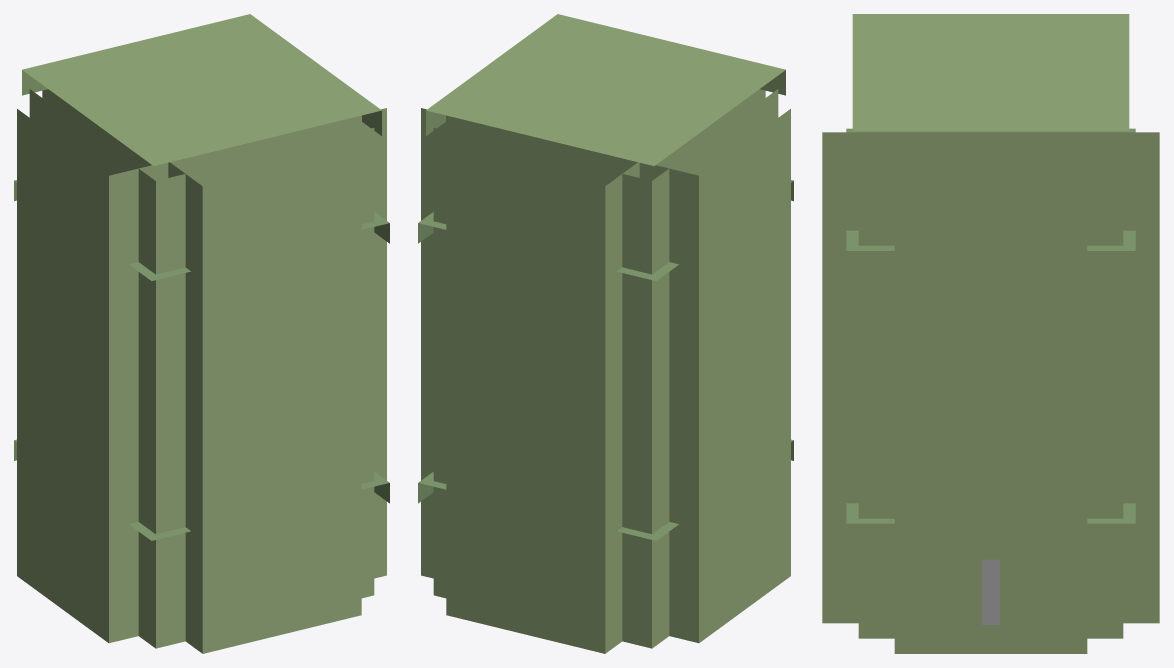
Rendered from rain_barrel.glb.
The picture shows the model from 3 angles, left to right: view 1: azimuth 30°, elevation 25°; view 2: azimuth 150°, elevation 25°; view 3: azimuth 270°, elevation 25°; orthographic projection. The views are drawn at different scales.
Bounding box in the file's own units: 0.575 × 0.935 × 0.56.
